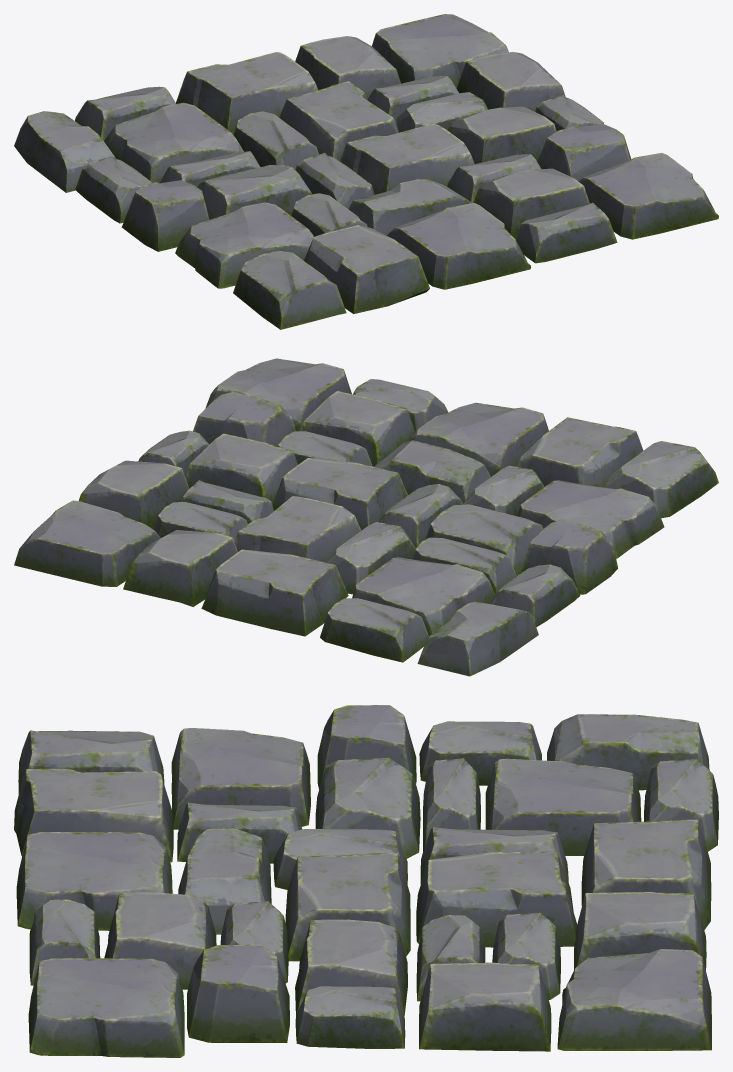
The model's file is RockPath_Square_Wide.glb.
The picture shows the model from 3 angles, top to bottom: view 1: azimuth 30°, elevation 25°; view 2: azimuth 150°, elevation 25°; view 3: azimuth 270°, elevation 25°; orthographic projection. The views are drawn at different scales.
Size of the model in its own units: 2.05 by 0.1763 by 1.99.
1 material, 1 textured.
